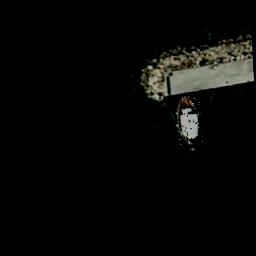boat: (174, 94, 204, 146)
